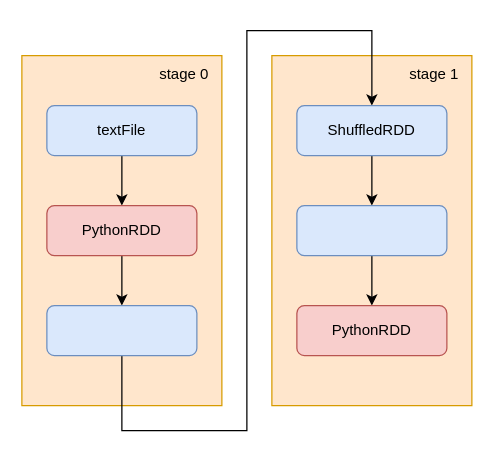
Image size: 494x463. Some labels were removed from this diagram. The box of each missing label's shape, as (x1, y1, x2, y2) in pixels:
MapPartitionsRDD: (296, 204, 447, 256)
PairwiseRDD: (46, 304, 197, 356)
